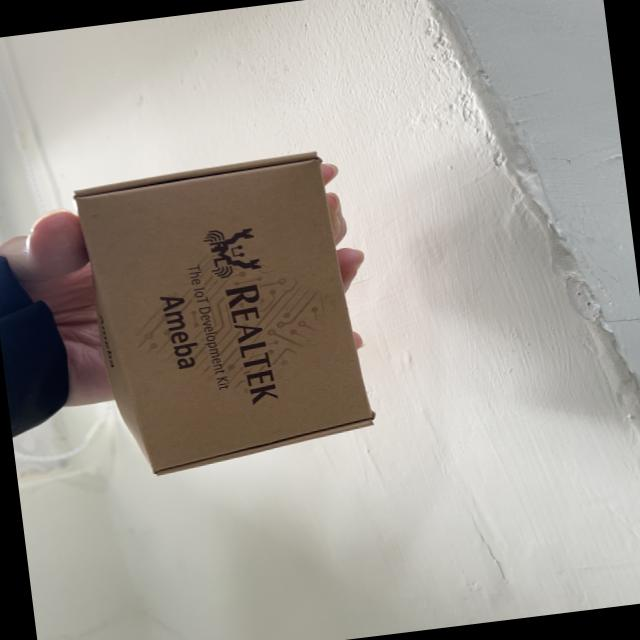box: (62, 146, 394, 487)
